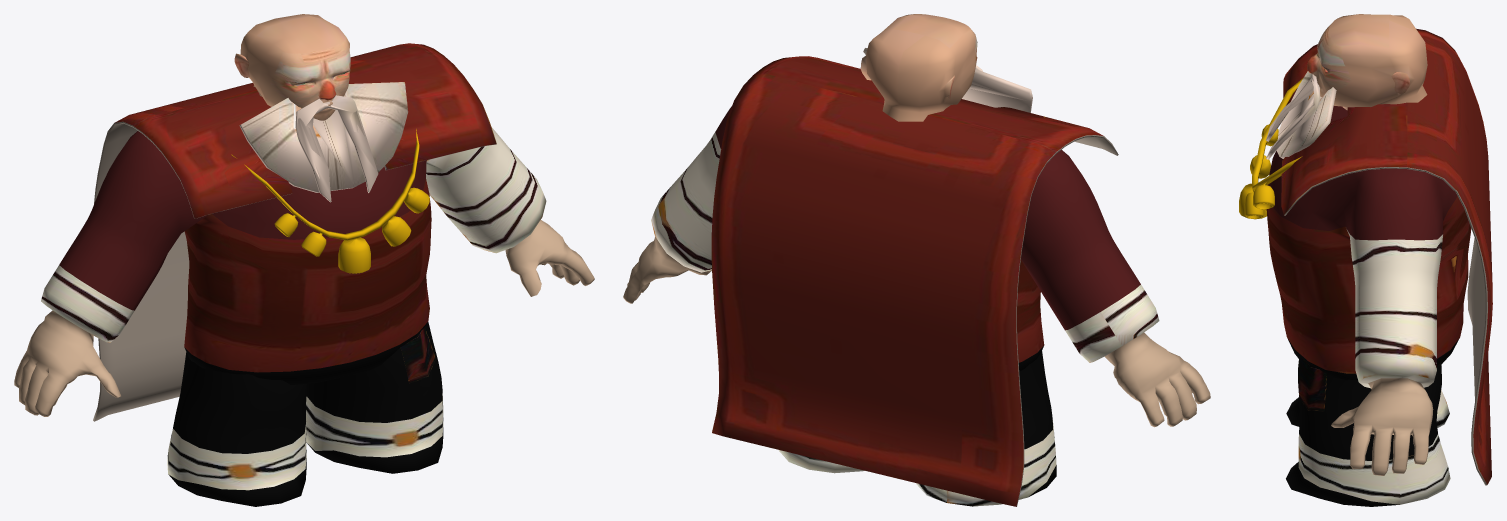
Rendered from kuker02.fbx.
3 views of the same model, side by side, from view 1: azimuth 30°, elevation 25°; view 2: azimuth 150°, elevation 25°; view 3: azimuth 270°, elevation 25° (orthographic). The views are drawn at different scales.
Visible parts, largest first — view 1: body, pelerina, polySurface11, polySurface10, polySurface7, polySurface6, kambani, mustak; view 2: pelerina, body, polySurface6, polySurface11, polySurface7, polySurface10; view 3: body, pelerina, polySurface10, polySurface6, kambani, polySurface7, mustak, polySurface11.
Part boxes in pixels (box(x1,y1,x2,y2)): body: box(14, 127, 594, 416); pelerina: box(93, 43, 496, 421); polySurface11: box(167, 352, 307, 506); polySurface10: box(306, 322, 443, 473); polySurface7: box(239, 82, 408, 192); polySurface6: box(234, 14, 350, 120); kambani: box(231, 129, 429, 273); mustak: box(295, 95, 378, 202); pelerina: box(711, 56, 1118, 506); body: box(623, 106, 1210, 427); polySurface6: box(860, 14, 977, 121); polySurface11: box(916, 351, 1056, 506); polySurface7: box(863, 48, 1032, 112); polySurface10: box(778, 450, 864, 473); body: box(1266, 106, 1471, 475); pelerina: box(1281, 28, 1492, 485); polySurface10: box(1286, 356, 1450, 506); polySurface6: box(1307, 14, 1427, 110); kambani: box(1239, 78, 1303, 219); polySurface7: box(1276, 71, 1336, 158); mustak: box(1266, 74, 1320, 159); polySurface11: box(1286, 390, 1449, 427).
Bounding box in the file's own units: 2.31 × 1.7 × 0.9338.
7 materials, 1 textured.
